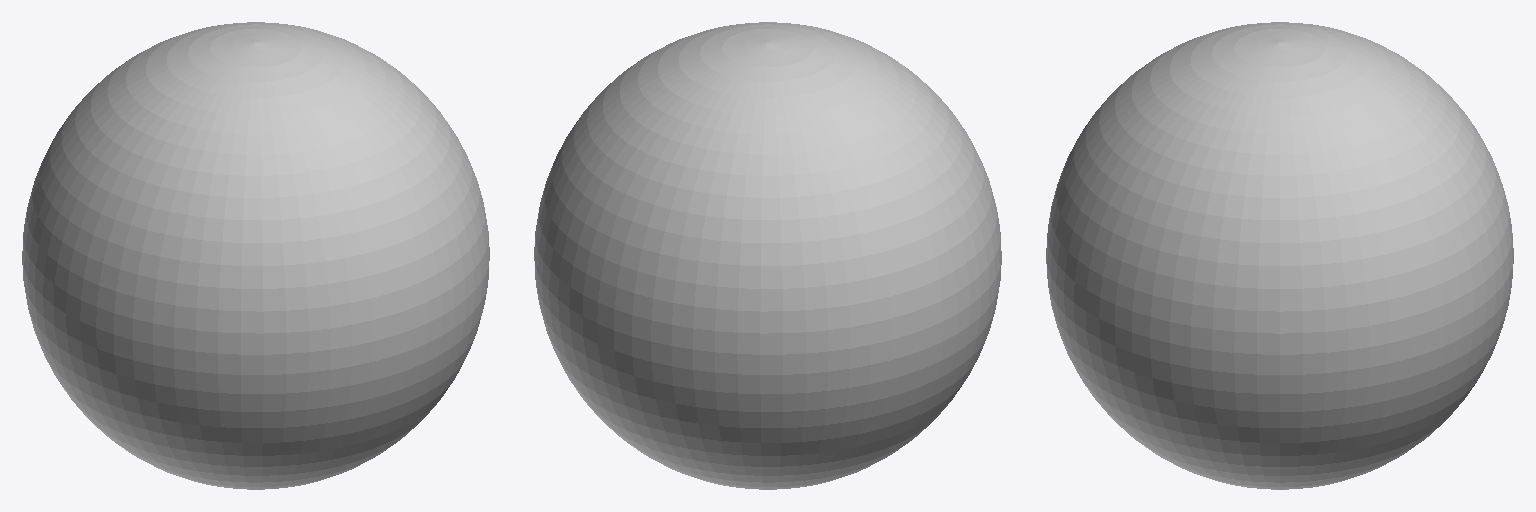
File: globe2.obj
3 views of the same model, side by side, from view 1: azimuth 30°, elevation 25°; view 2: azimuth 150°, elevation 25°; view 3: azimuth 270°, elevation 25° (orthographic).
Parts seen in each view (by area): view 1: Sphere_Sphere.001; view 2: Sphere_Sphere.001; view 3: Sphere_Sphere.001.
Boxes of the visible parts, x1=… form: Sphere_Sphere.001: x1=22, y1=22, x2=489, y2=489; Sphere_Sphere.001: x1=534, y1=22, x2=1001, y2=489; Sphere_Sphere.001: x1=1046, y1=22, x2=1513, y2=489.
Bounding box in the file's own units: 2 × 2.01 × 2.